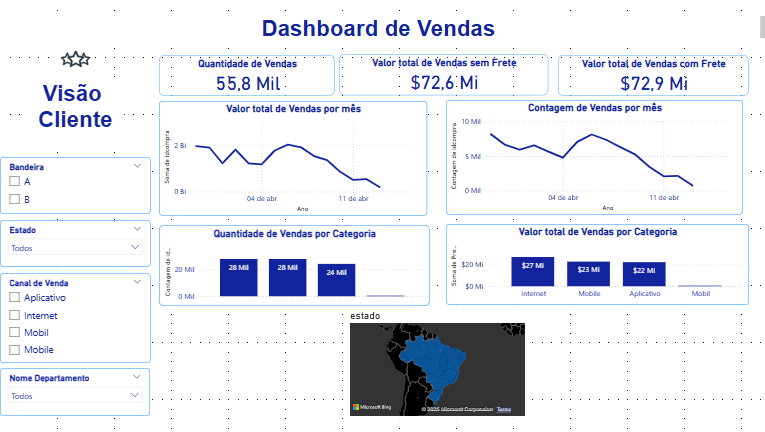

This screenshot's page, from the dashboard's own definition file:
{"tool":"powerbi","page":{"name":"Visão do Clientes","canvas":[1280,720],"ordinal":0},"visuals":[{"type":"filledMap","fields":{"Category":["base compra.estado"]},"box":[578.3,514.6,303.3,182.9],"z":0},{"type":"card","title":"Quantidade de Vendas","fields":{"Values":["Count(base compra.idcompra)"]},"box":[265.1,91.7,293.4,68],"z":1000,"group":"g1"},{"type":"slicer","fields":{"Values":["base compra.bandeira"]},"box":[0,262.2,250.9,95],"z":1000,"group":"g4"},{"type":"card","title":"Valor total de Vendas sem Frete","fields":{"Values":["Sum(base compra.Preço)"]},"box":[565.6,89.3,349,68.9],"z":2000,"group":"g1"},{"type":"slicer","fields":{"Values":["base compra.estado"]},"box":[0,367.1,250.9,78],"z":2000,"group":"g4"},{"type":"card","title":"Valor total de Vendas com Frete","fields":{"Values":["Sum(base compra.Preço_com_frete)"]},"box":[929.4,90.5,317.9,67.6],"z":3000,"group":"g1"},{"type":"slicer","fields":{"Values":["base compra.idcanalvenda"]},"box":[0,455,250.9,150.3],"z":3000,"group":"g4"},{"type":"slicer","fields":{"Values":["base compra.Nome_Departamento"]},"box":[0,613.1,250.2,80.5],"z":4000,"group":"g4"},{"type":"textbox","box":[0,21.8,1280,50.4],"z":5000},{"type":"lineChart","title":"Valor total de Vendas por mês","fields":{"Y":["Sum(base compra.idcompra)"],"Category":["base compra.Data.Variation.Hierarquia de datas.Ano","base compra.Data.Variation.Hierarquia de datas.Trimestre","base compra.Data.Variation.Hierarquia de datas.Mês","base compra.Data.Variation.Hierarquia de datas.Dia"]},"box":[265.1,169,446.5,191.4],"z":5000,"group":"g2"},{"type":"columnChart","title":"Valor total de Vendas por Categoria","fields":{"Category":["base compra.idcanalvenda"],"Y":["Sum(base compra.Preço)"]},"box":[742.7,373.9,504.6,134.7],"z":5000,"group":"g3"},{"type":"group","id":"g1","title":"Grupo 1","box":[265.1,89.3,982.3,70.9],"z":6000},{"type":"lineChart","title":"Contagem de Vendas por mês","fields":{"Y":["CountNonNull(base compra.idcompra)"],"Category":["base compra.Data.Variation.Hierarquia de datas.Ano","base compra.Data.Variation.Hierarquia de datas.Trimestre","base compra.Data.Variation.Hierarquia de datas.Mês","base compra.Data.Variation.Hierarquia de datas.Dia"]},"box":[744.1,166.9,494.7,191.4],"z":6000,"group":"g2"},{"type":"columnChart","title":"Quantidade de Vendas por Categoria ","fields":{"Category":["base compra.idcanalvenda"],"Y":["CountNonNull(base compra.idcompra)"]},"box":[265,375.3,450.8,134.7],"z":6000,"group":"g3"},{"type":"group","id":"g2","title":"Grupo 2","box":[265.1,166.9,973.7,193.5],"z":7000},{"type":"group","id":"g3","title":"Grupo 3","box":[265,373.9,982.4,136.1],"z":8000},{"type":"textbox","box":[45.4,130.7,161.6,110.6],"z":9000,"group":"g5"},{"type":"textbox","box":[1088.6,548.6,12.8,9.9],"z":10000},{"type":"image","box":[59.6,60.1,130.4,75.1],"z":10001,"group":"g5"},{"type":"group","id":"g4","title":"Grupo 4","box":[0,262.2,250.9,430.9],"z":10002},{"type":"group","id":"g5","title":"Grupo 5","box":[45.4,60.1,161.6,181.1],"z":10003}]}

Visuals, with their boxes in screenshot pixels (x1, y1, x2, y2), scaled from the page's 1280x720 canvas onto the 765x432 screenshot:
filledMap - base compra.estado: box=[346, 309, 527, 418]
"Quantidade de Vendas" card: box=[158, 55, 334, 96]
slicer - base compra.bandeira: box=[0, 157, 150, 214]
"Valor total de Vendas sem Frete" card: box=[338, 54, 547, 95]
slicer - base compra.estado: box=[0, 220, 150, 267]
"Valor total de Vendas com Frete" card: box=[555, 54, 745, 95]
slicer - base compra.idcanalvenda: box=[0, 273, 150, 363]
slicer - base compra.Nome_Departamento: box=[0, 368, 150, 416]
textbox: box=[0, 13, 764, 43]
"Valor total de Vendas por mês" lineChart: box=[158, 101, 425, 216]
"Valor total de Vendas por Categoria" columnChart: box=[444, 224, 745, 305]
"Grupo 1" group: box=[158, 54, 746, 96]
"Contagem de Vendas por mês" lineChart: box=[445, 100, 740, 215]
"Quantidade de Vendas por Categoria " columnChart: box=[158, 225, 428, 306]
"Grupo 2" group: box=[158, 100, 740, 216]
"Grupo 3" group: box=[158, 224, 746, 306]
textbox: box=[27, 78, 124, 145]
textbox: box=[651, 329, 658, 335]
image: box=[36, 36, 114, 81]
"Grupo 4" group: box=[0, 157, 150, 416]
"Grupo 5" group: box=[27, 36, 124, 145]
